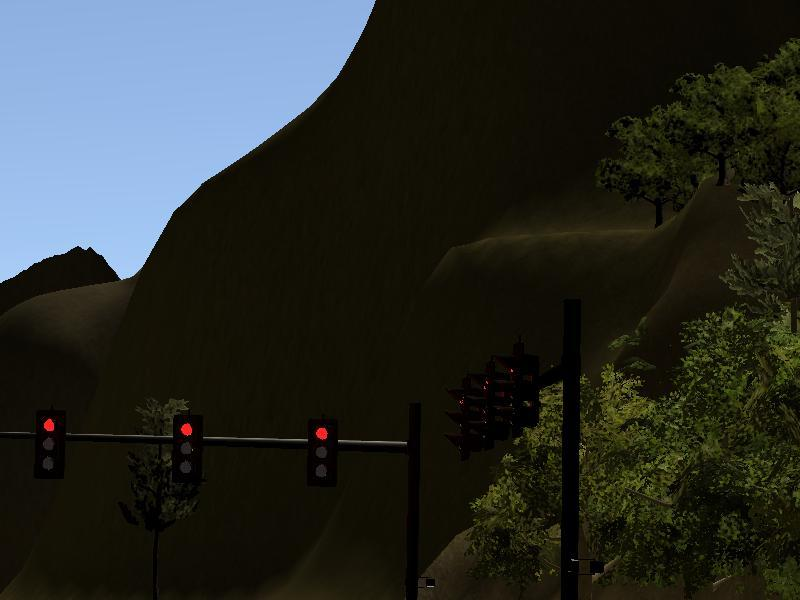Red: (309, 419, 337, 485), (173, 415, 199, 483), (35, 412, 61, 474)
